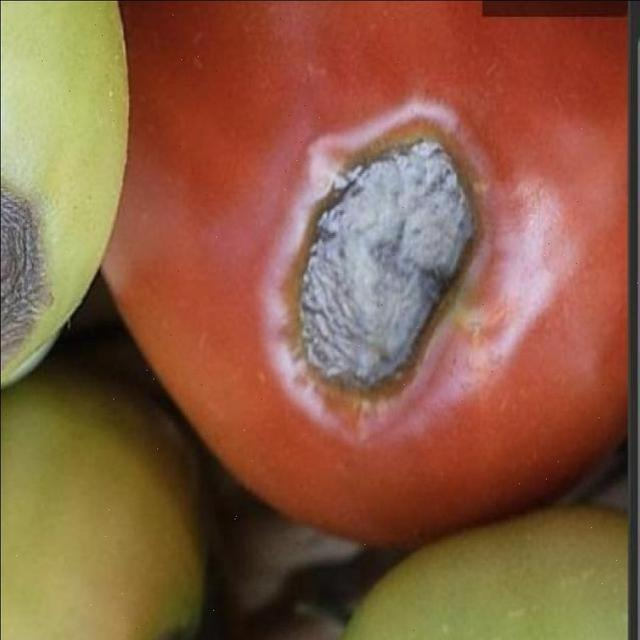Blossom End Rot Fruit: (180, 68, 325, 295)
